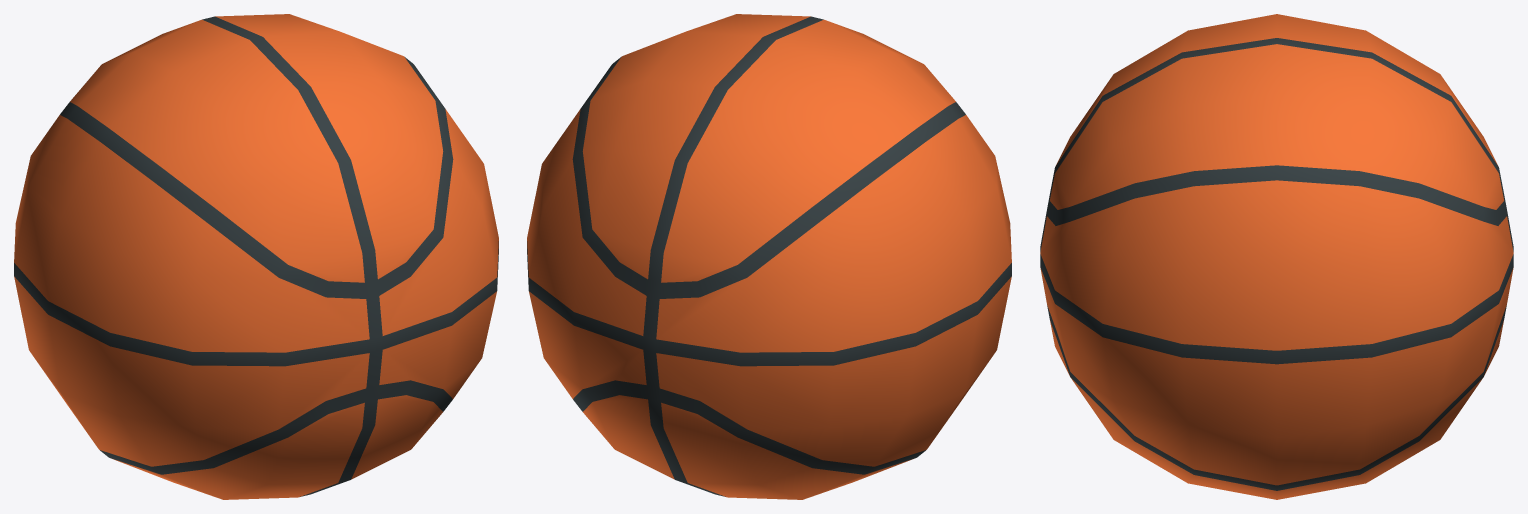
Rendered from Basketball_01.fbx.
3 renders of one model, left to right at view 1: azimuth 30°, elevation 25°; view 2: azimuth 150°, elevation 25°; view 3: azimuth 270°, elevation 25°, orthographic.
Visible parts, largest first — view 1: Basketball_01; view 2: Basketball_01; view 3: Basketball_01.
Boxes of the visible parts, x1,y1,x2,y2 form: Basketball_01: (14,14,498,499); Basketball_01: (527,14,1011,499); Basketball_01: (1040,14,1513,499).
Size of the model in its own units: 1.66 by 1.66 by 1.65.
